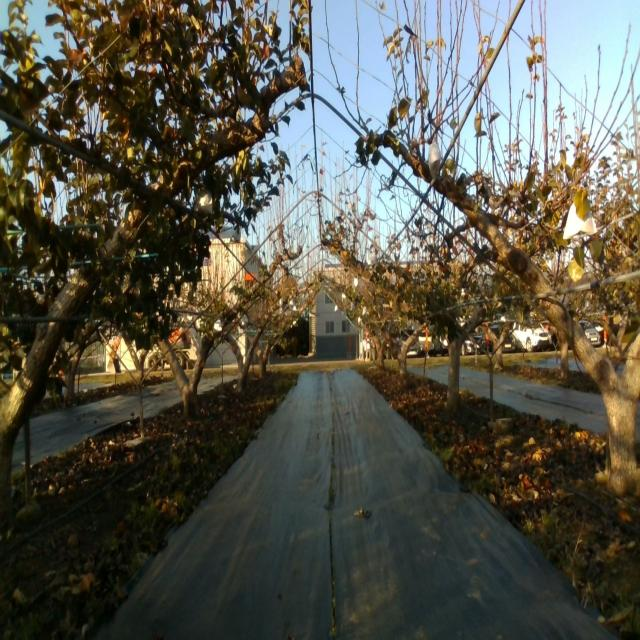pearbags: (563, 202, 597, 240), (428, 142, 442, 184), (194, 188, 213, 216)
